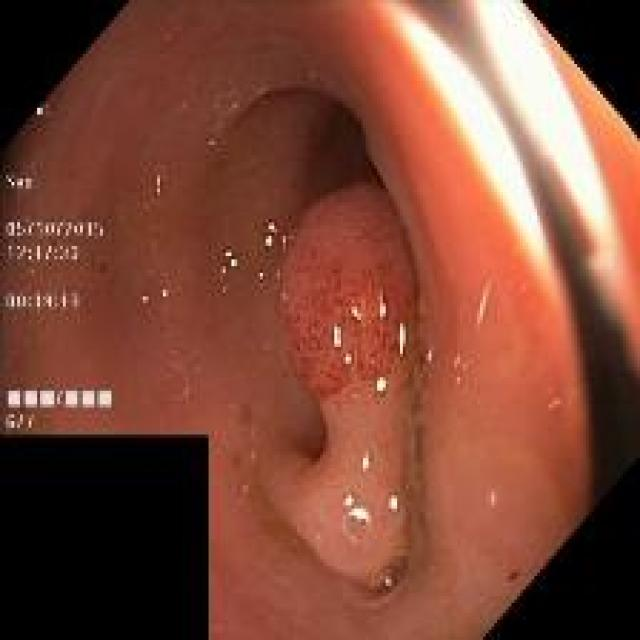Polyps: (271, 183, 422, 587)
